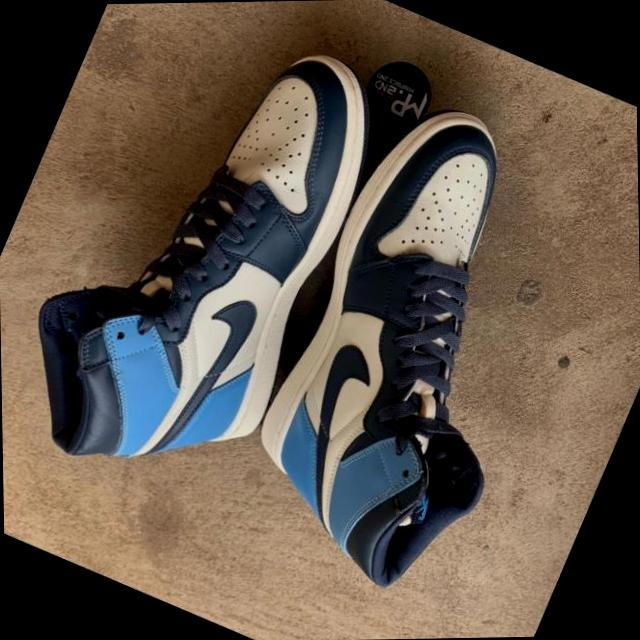nike_original_jordan: (204, 78, 621, 611), (0, 0, 413, 522)
